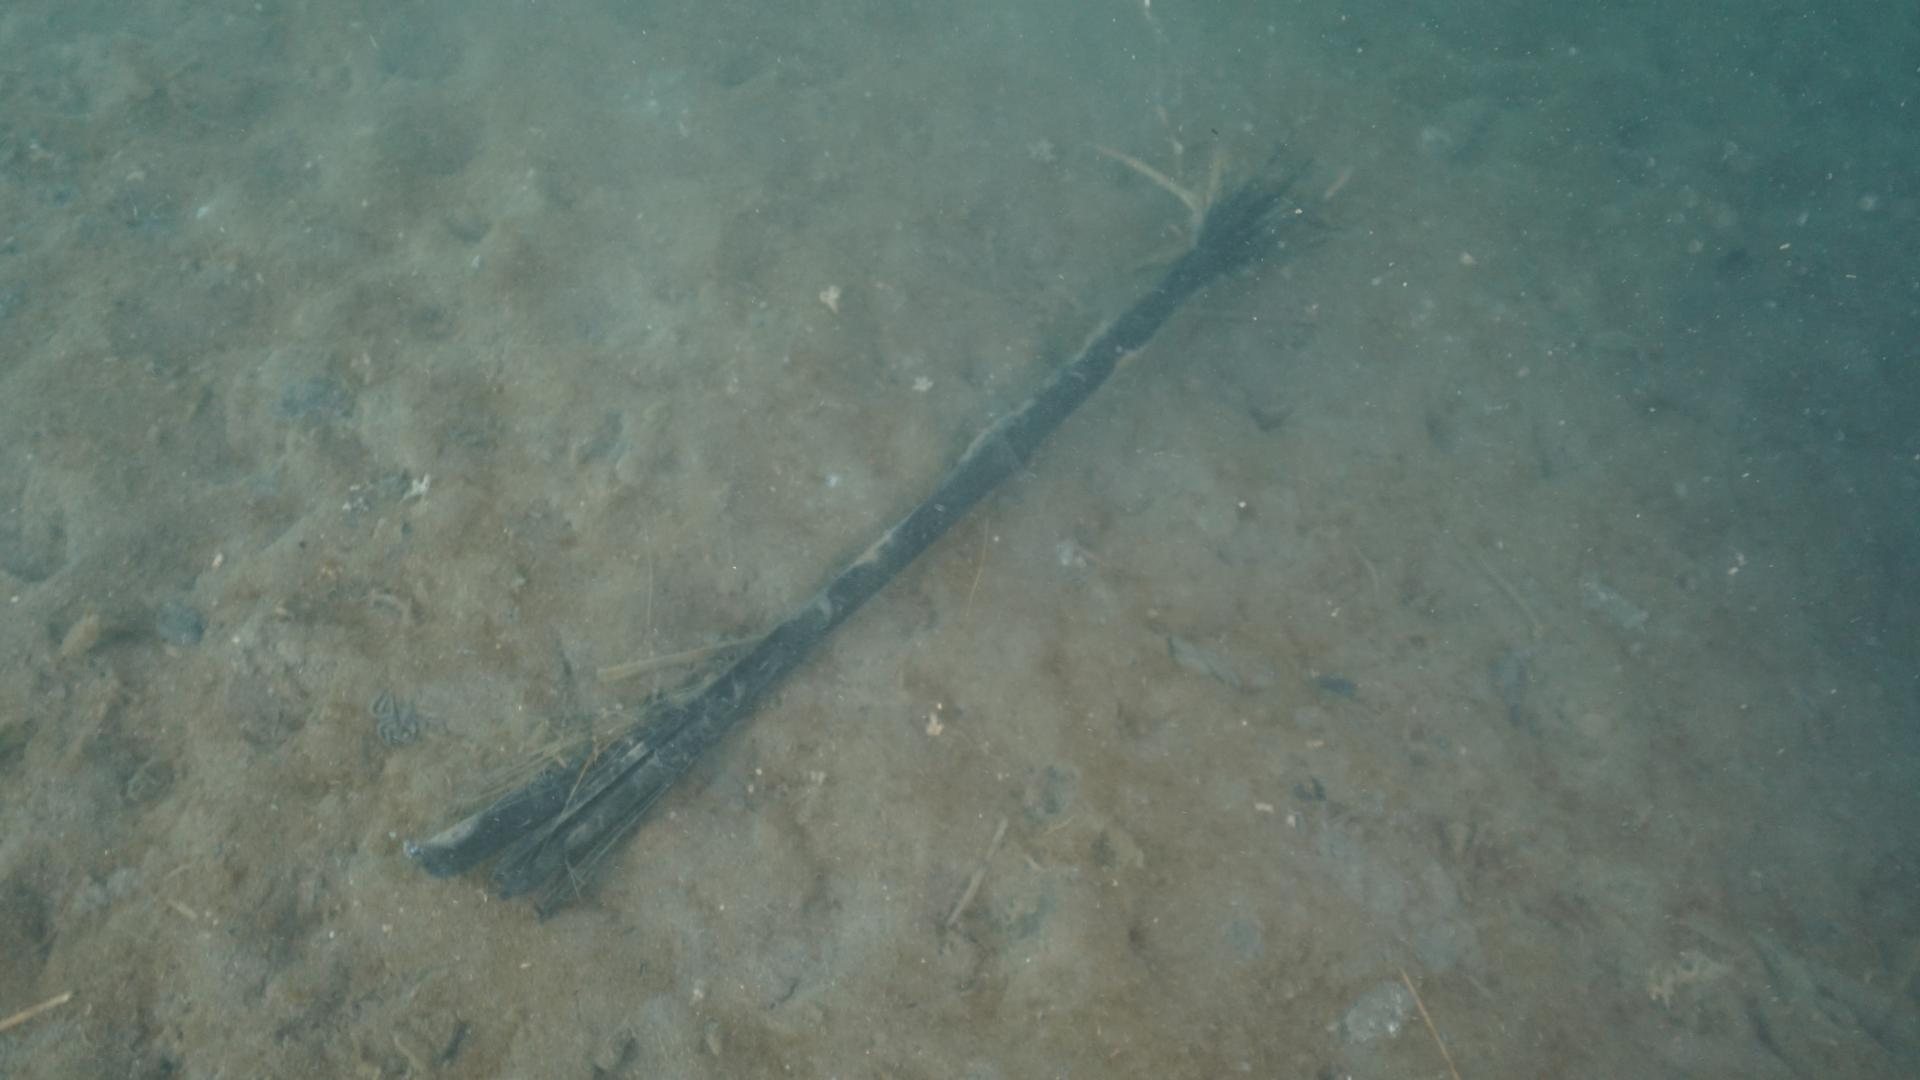wood: (401, 138, 1356, 920)
